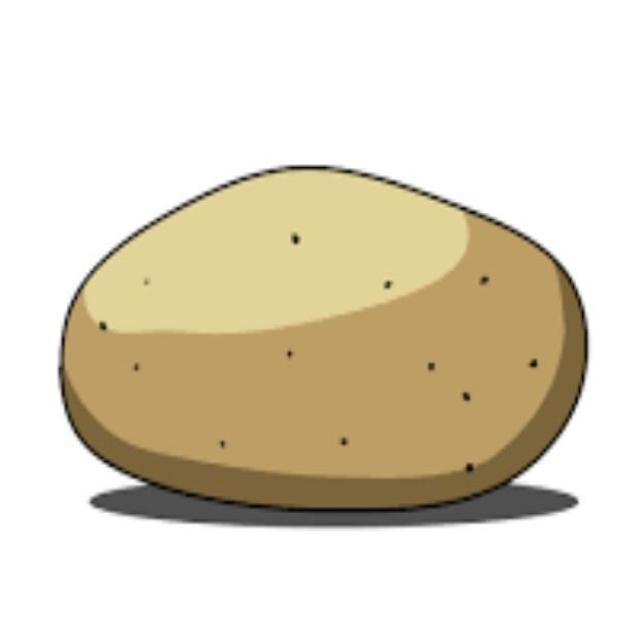potato: (59, 164, 586, 512)
